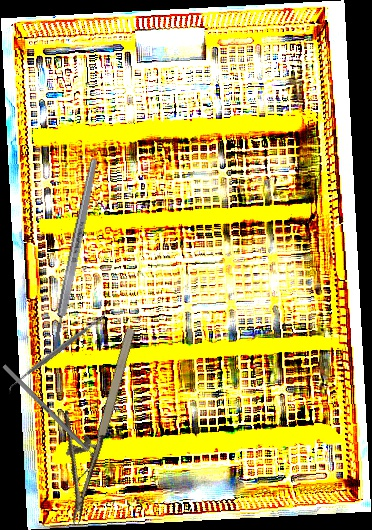Needle Holder: (32, 317, 142, 526)
Pusher: (2, 364, 111, 473)
Scalpel Handle: (48, 157, 101, 352)
Spatula Surgical: (1, 305, 115, 395)
